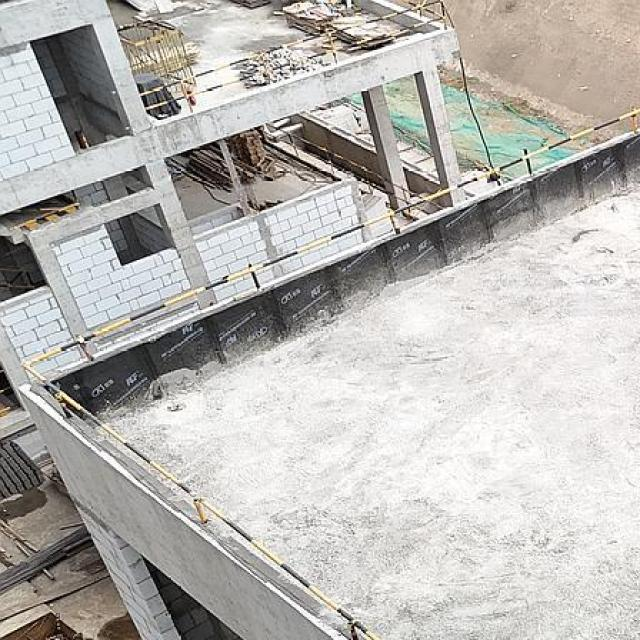edge_guardrail: (20, 103, 640, 640), (140, 0, 446, 110), (265, 122, 444, 215), (0, 385, 20, 418)
